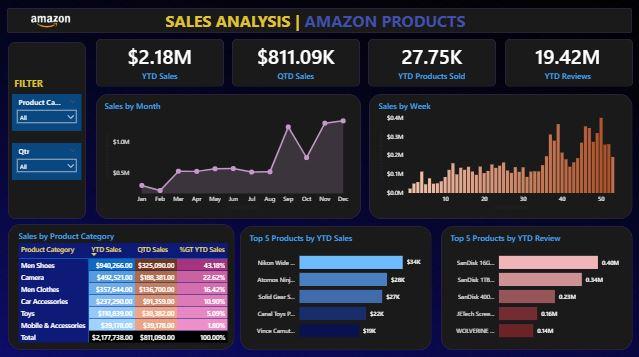

The page's visual inventory and layout, read from the dashboard file:
{"tool":"powerbi","page":{"name":"Page 1","canvas":[1280,720],"ordinal":0},"visuals":[{"type":"shape","box":[13.4,16.8,1249.8,50.4],"z":0},{"type":"shape","box":[191.5,79,256,95],"z":0,"group":"g1"},{"type":"shape","box":[15.1,84,156.2,354.4],"z":0,"group":"g7"},{"type":"shape","box":[191.2,188.1,529.8,250],"z":0,"group":"g2"},{"type":"textbox","box":[326.7,13.3,625,61.7],"z":1000},{"type":"card","fields":{"Values":["Amazon_Data.YTD Sales"]},"box":[203,84,231.4,81.7],"z":1000,"group":"g1"},{"type":"shape","box":[737.4,188.1,526.8,250],"z":1000,"group":"g6"},{"type":"areaChart","title":"Sales by Month","fields":{"Y":["Sum(Amazon_Data.Price(Dollar))"],"Category":["Date Table.Month Name"]},"box":[202.6,199.8,502,225],"z":1000,"group":"g2"},{"type":"group","id":"g1","title":"Group 1","box":[191.5,79,1073.4,94.1],"z":2000},{"type":"shape","box":[463.9,79,256,95],"z":2000,"group":"g1"},{"type":"shape","box":[736.3,79,256,95],"z":3000,"group":"g1"},{"type":"group","id":"g2","title":"Group 2","box":[191.2,188.1,529.1,250.3],"z":3000},{"type":"columnChart","title":"Sales by Week","fields":{"Category":["Date Table.Week Number"],"Y":["Sum(Amazon_Data.Price(Dollar))"]},"box":[752.2,199.8,485.6,225],"z":3000,"group":"g6"},{"type":"shape","box":[1008.7,79,256,95],"z":4000,"group":"g1"},{"type":"group","id":"g3","title":"Group 3","box":[480.8,451.9,383,248.6],"z":4000},{"type":"card","fields":{"Values":["Amazon_Data.QTD Sales"]},"box":[475.4,84,231.4,81.7],"z":5000,"group":"g1"},{"type":"group","id":"g4","title":"Group 3","box":[881.9,451.9,383,248.6],"z":5000},{"type":"card","fields":{"Values":["Amazon_Data.YTD Products Sold"]},"box":[747.8,84,231.4,81.7],"z":6000,"group":"g1"},{"type":"group","id":"g5","title":"Group 4","box":[15.1,448.5,453.5,255.3],"z":6000},{"type":"shape","box":[15.1,448.5,453.3,251.7],"z":6000,"group":"g5"},{"type":"shape","box":[480.8,451.9,383.1,248.6],"z":6000,"group":"g3"},{"type":"shape","box":[881.9,451.9,383.5,248.3],"z":6000,"group":"g4"},{"type":"card","fields":{"Values":["Amazon_Data.YTD Reviews"]},"box":[1020.2,84,231.4,81.7],"z":7000,"group":"g1"},{"type":"group","id":"g6","title":"Group 5","box":[737.4,188.1,527.5,250.3],"z":7000},{"type":"pivotTable","title":"Sales by Product Category","fields":{"Rows":["Amazon_Data.Product Category"],"Values":["Amazon_Data.YTD Sales1","Amazon_Data.QTD Sales","Amazon_Data.YTD Sales"]},"box":[30.1,460.2,438.3,243.3],"z":7000,"group":"g5"},{"type":"group","id":"g7","title":"Group 2","box":[15.1,84,156.2,354.4],"z":8000},{"type":"image","box":[23.5,0,154.5,90.7],"z":9000},{"type":"barChart","title":"Top 5 Products by YTD Sales","fields":{"Category":["Amazon_Data.Product Description"],"Y":["Amazon_Data.YTD Sales"]},"box":[495.7,463.8,366.3,229.9],"z":9000,"group":"g3"},{"type":"barChart","title":"Top 5 Products by YTD Review","fields":{"Category":["Amazon_Data.Product Description"],"Y":["Amazon_Data.YTD Reviews"]},"box":[895.3,464,355.5,230.2],"z":9000,"group":"g4"},{"type":"slicer","fields":{"Values":["Amazon_Data.Product Category"]},"box":[23.5,188.1,139.4,73.9],"z":10000},{"type":"slicer","fields":{"Values":["Date Table.Qtr"]},"box":[23.5,285.6,139.4,73.9],"z":11000},{"type":"textbox","box":[23.5,147.8,77.3,37],"z":12000}]}

Visuals, with their boxes in screenshot pixels (x1, y1, x2, y2), scaled from the page's 1280x720 canvas onto the 639x357 screenshot:
shape: detection(7, 8, 631, 33)
shape: detection(96, 39, 223, 86)
shape: detection(8, 42, 86, 217)
shape: detection(95, 93, 360, 217)
textbox: detection(163, 7, 475, 37)
card - Amazon_Data.YTD Sales: detection(101, 42, 217, 82)
shape: detection(368, 93, 631, 217)
"Sales by Month" areaChart: detection(101, 99, 352, 211)
"Group 1" group: detection(96, 39, 631, 86)
shape: detection(232, 39, 359, 86)
shape: detection(368, 39, 495, 86)
"Group 2" group: detection(95, 93, 360, 217)
"Sales by Week" columnChart: detection(376, 99, 618, 211)
shape: detection(504, 39, 631, 86)
"Group 3" group: detection(240, 224, 431, 347)
card - Amazon_Data.QTD Sales: detection(237, 42, 353, 82)
"Group 3" group: detection(440, 224, 631, 347)
card - Amazon_Data.YTD Products Sold: detection(373, 42, 489, 82)
"Group 4" group: detection(8, 222, 234, 349)
shape: detection(8, 222, 234, 347)
shape: detection(240, 224, 431, 347)
shape: detection(440, 224, 632, 347)
card - Amazon_Data.YTD Reviews: detection(509, 42, 625, 82)
"Group 5" group: detection(368, 93, 631, 217)
"Sales by Product Category" pivotTable: detection(15, 228, 234, 349)
"Group 2" group: detection(8, 42, 86, 217)
image: detection(12, 0, 89, 45)
"Top 5 Products by YTD Sales" barChart: detection(247, 230, 430, 344)
"Top 5 Products by YTD Review" barChart: detection(447, 230, 624, 344)
slicer - Amazon_Data.Product Category: detection(12, 93, 81, 130)
slicer - Date Table.Qtr: detection(12, 142, 81, 178)
textbox: detection(12, 73, 50, 92)
